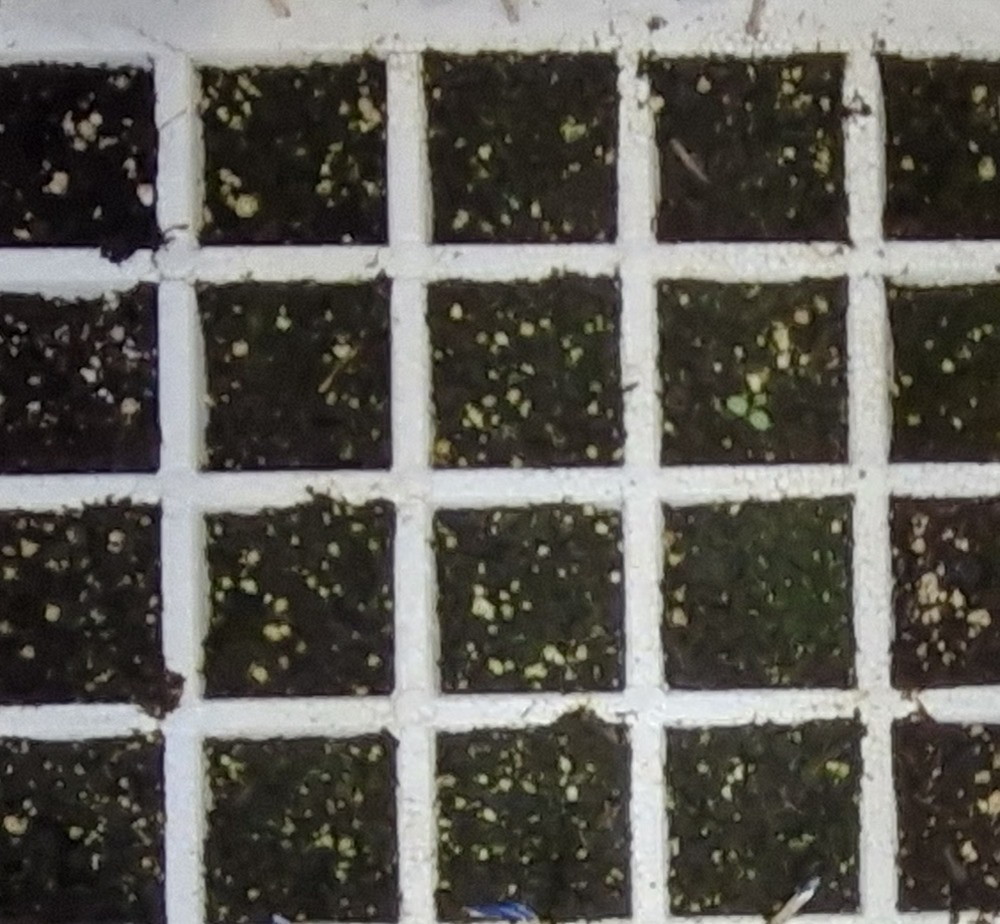Folha: (727, 396, 748, 416), (748, 410, 768, 428), (754, 393, 768, 407)
Germinacao: (727, 392, 770, 428)
